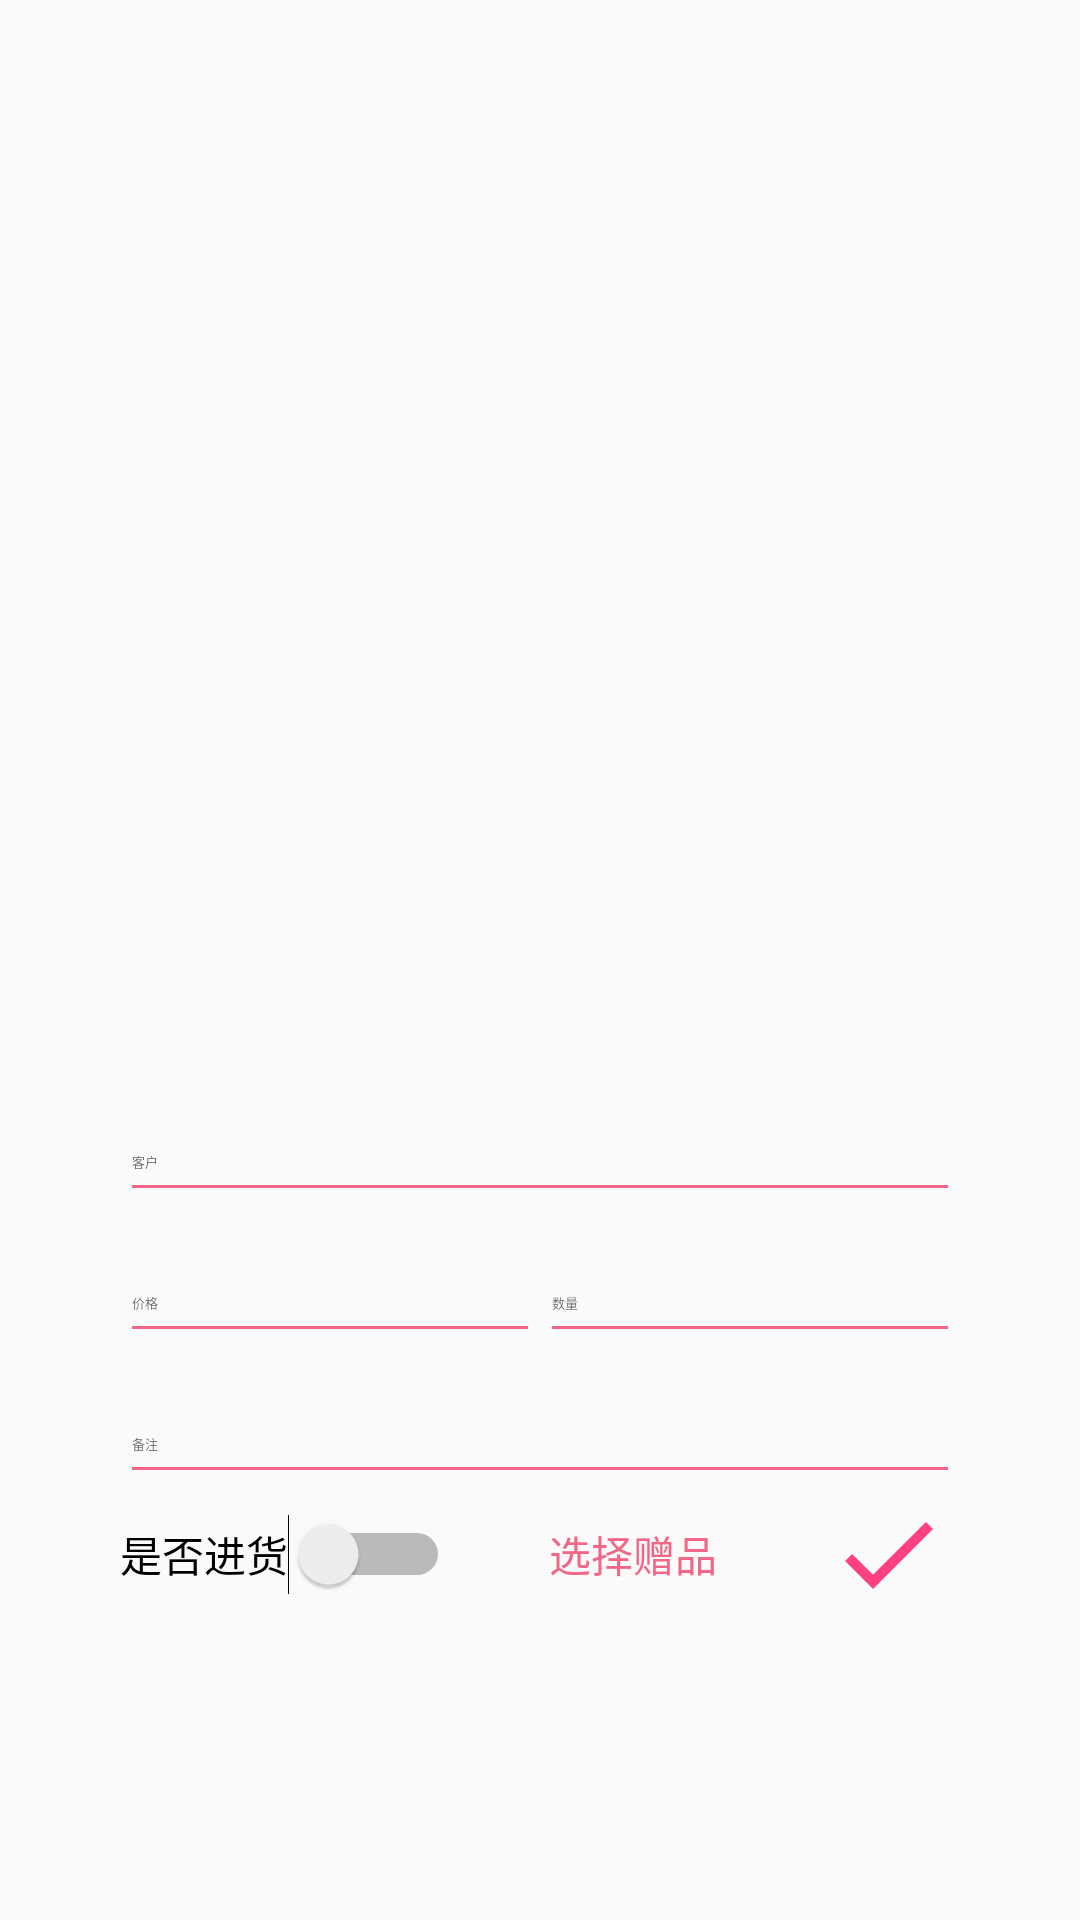

Screen size 1080x1920. Icon name, then its box in pixels as (x1, y1, x2, y2):
提交按钮: (845, 1522, 933, 1589)
